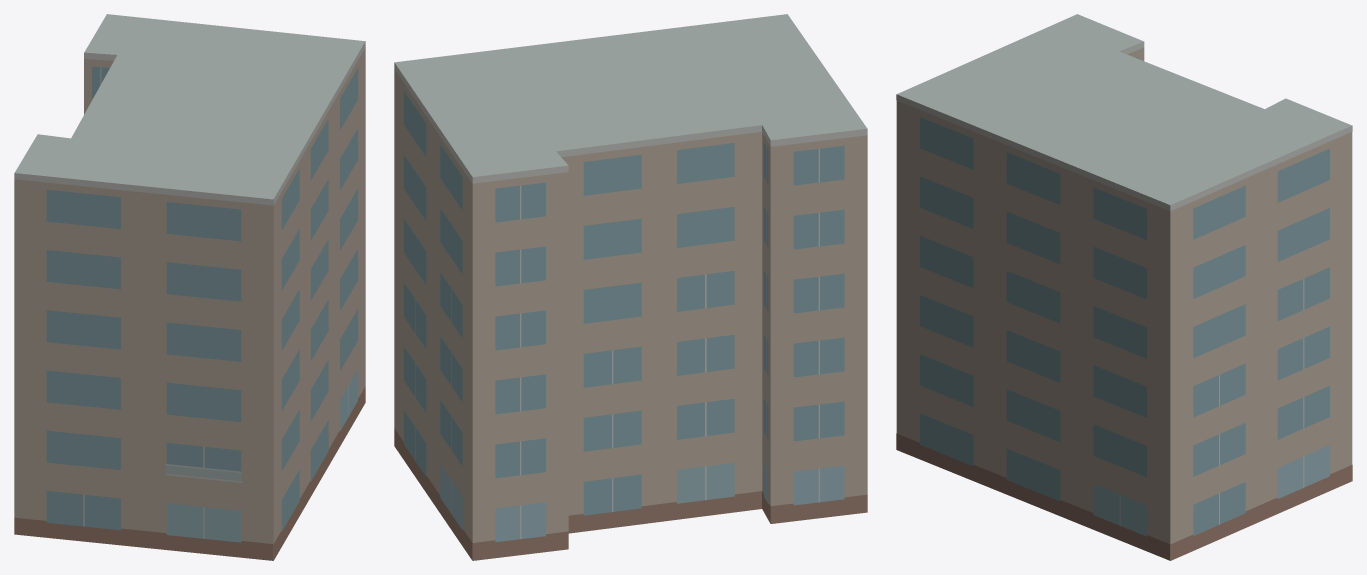
File: survey-upis-32887612.glb
The picture shows the model from 3 angles, left to right: view 1: azimuth 30°, elevation 25°; view 2: azimuth 150°, elevation 25°; view 3: azimuth 270°, elevation 25°; orthographic projection. The views are drawn at different scales.
Parts seen in each view (by area): view 1: survey-upis-32887612.tmp; view 2: survey-upis-32887612.tmp; view 3: survey-upis-32887612.tmp.
Boxes of the visible parts, x1=… form: survey-upis-32887612.tmp: x1=14, y1=14, x2=365, y2=560; survey-upis-32887612.tmp: x1=394, y1=14, x2=867, y2=560; survey-upis-32887612.tmp: x1=896, y1=14, x2=1352, y2=560.
Size of the model in its own units: 16.5 by 14.3 by 16.62.
